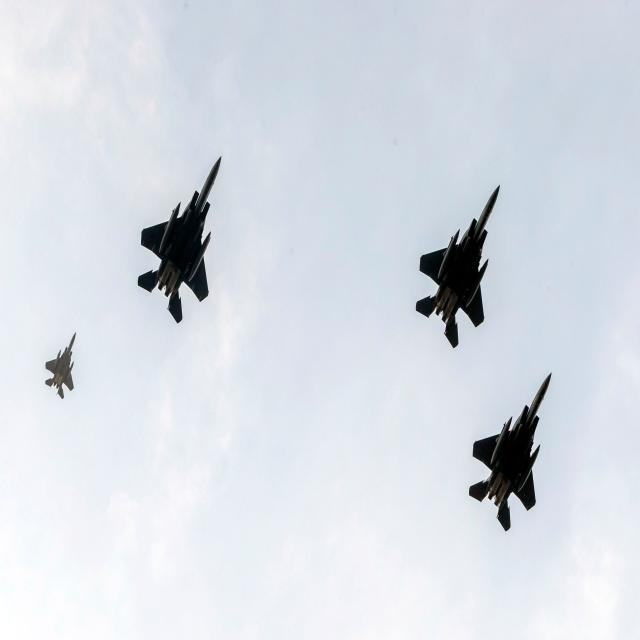MIL_Plane: (469, 372, 552, 532), (419, 184, 496, 348), (144, 155, 216, 324), (45, 332, 76, 400)
